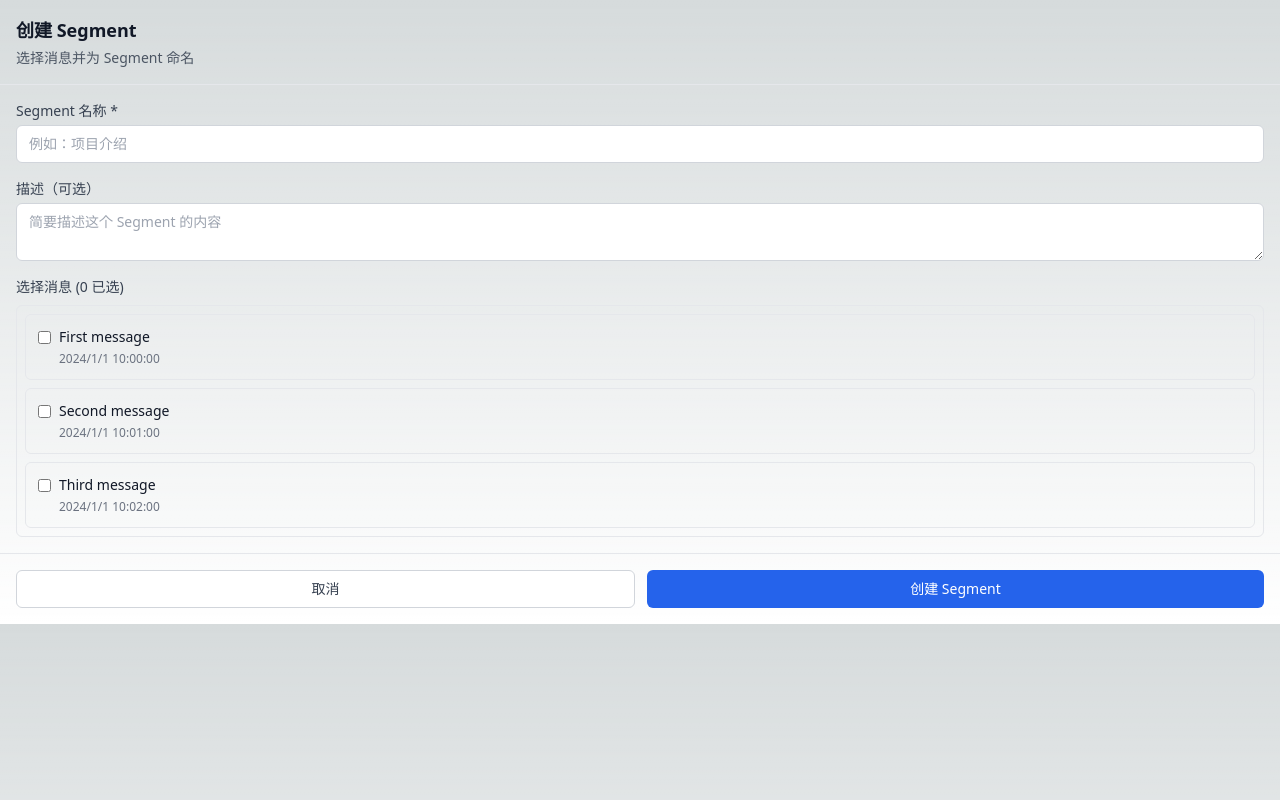
Test: SegmentCreator Component › should show error when name is empty
This screenshot has width=1280, height=800.
Note: Click create without entering name
Click the button "创建 Segment": point(956, 589) [647,570,1264,608]
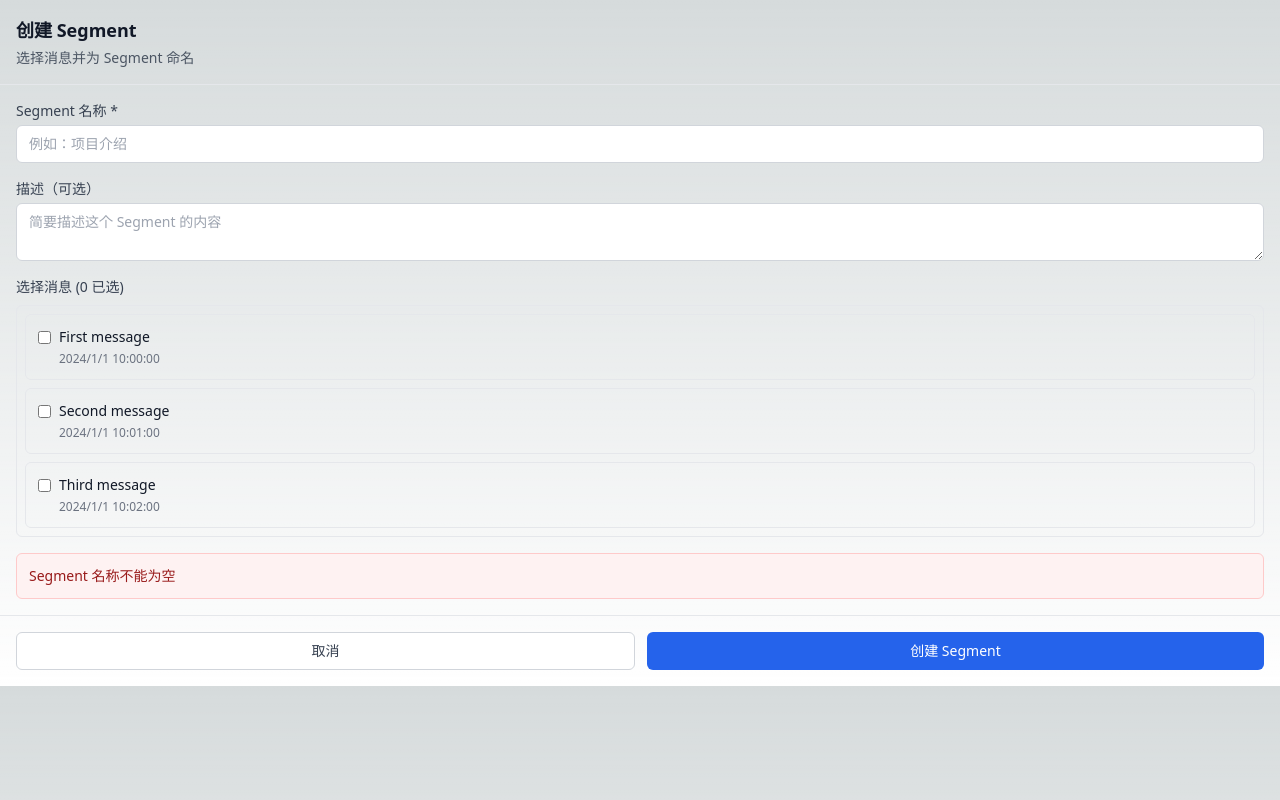
Check: the text "Segment 名称不能为空" is shown, box [29,566,176,585]
